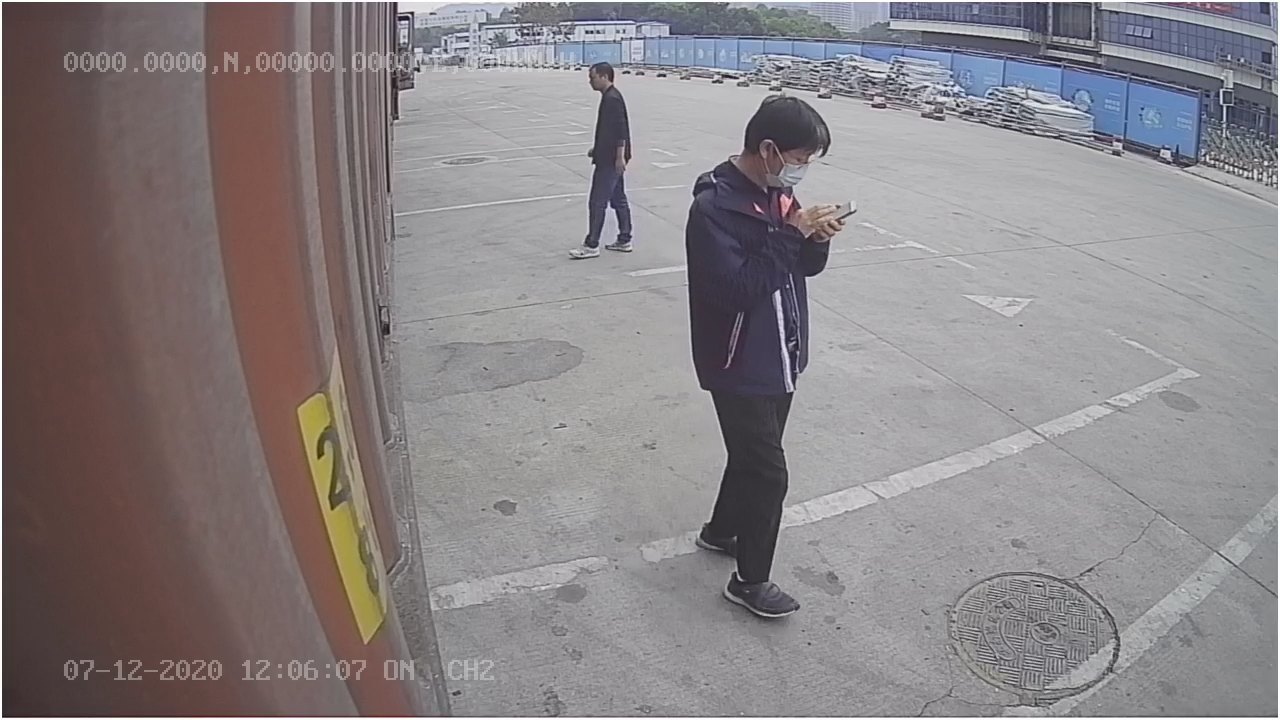person: (686, 88, 847, 621)
